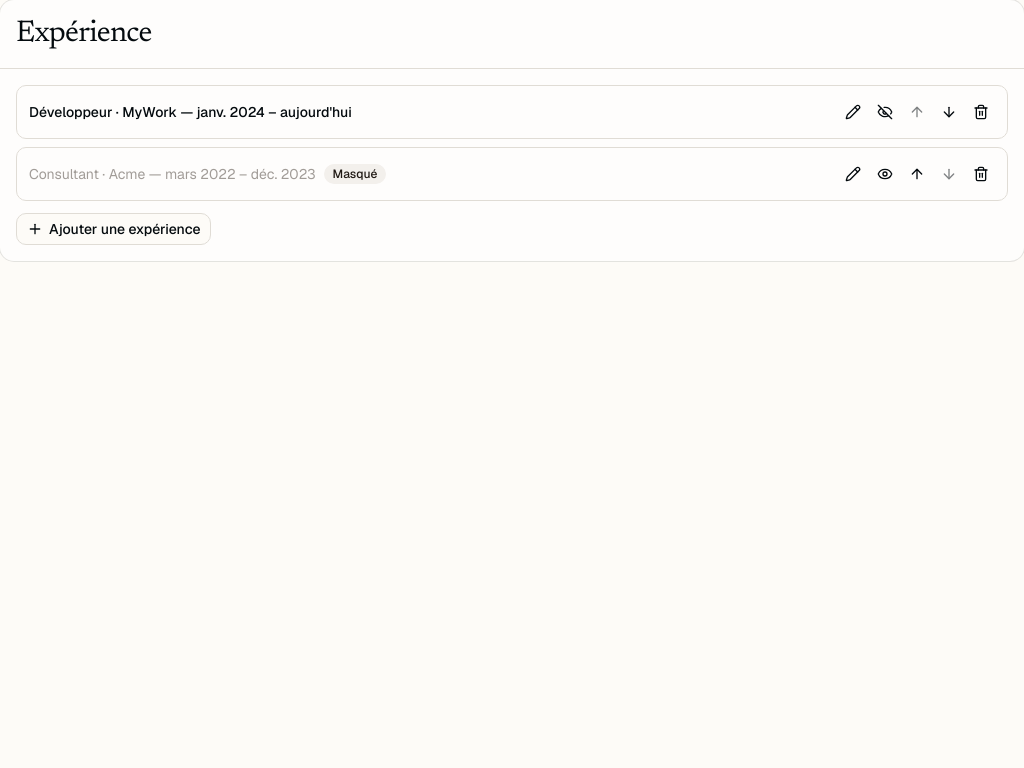
Test: SectionList › déplie le formulaire prérempli avec l'identifiant caché au clic sur Modifier
Click the 1st button named "Modifier" at (853, 112), box [839, 98, 867, 126]
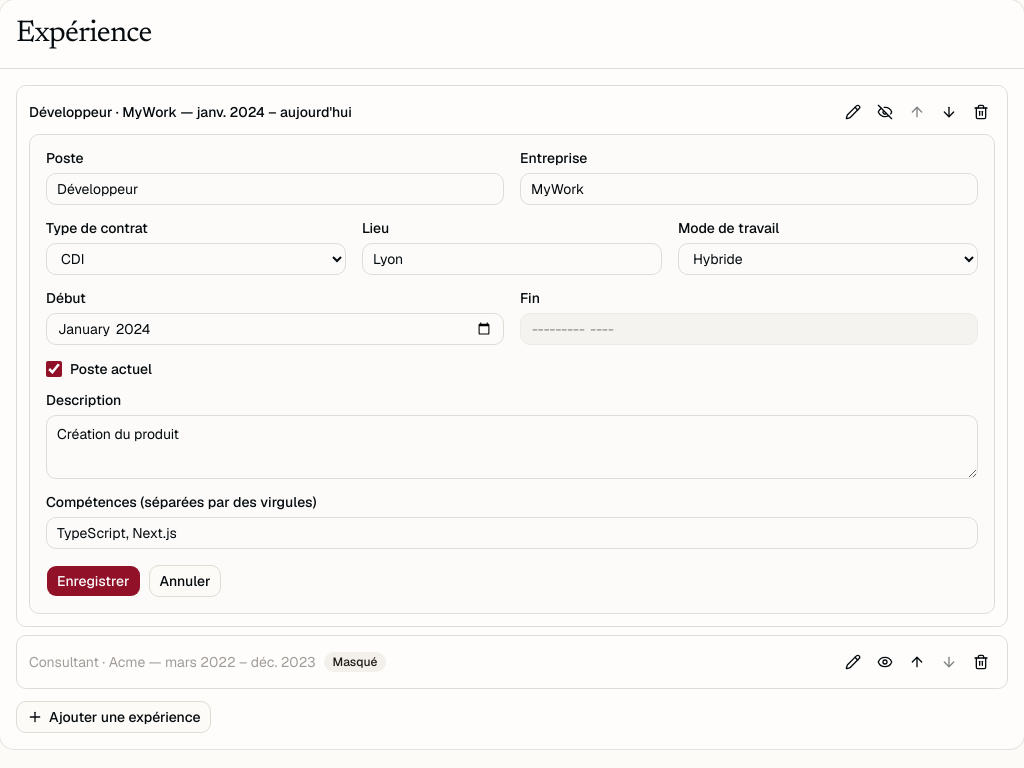
Expected: the field labelled "Poste" holds "Développeur", [46, 173, 504, 205]
Expected: the field labelled "Entreprise" holds "MyWork", [520, 173, 978, 205]
Expected: the form named "id" holds "exp-1", [29, 134, 995, 614]
